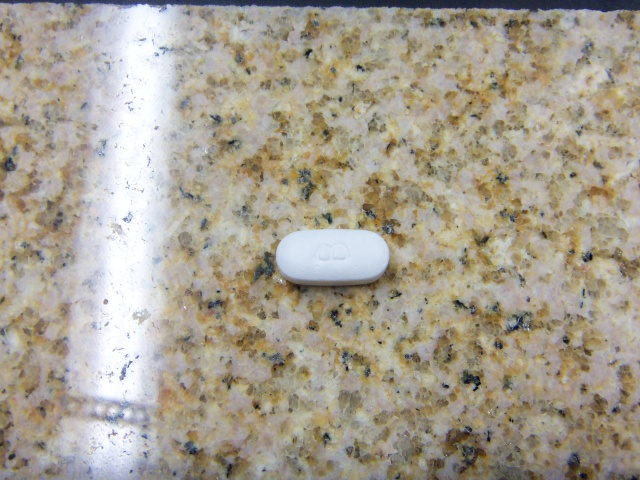B: (312, 236, 355, 266)
